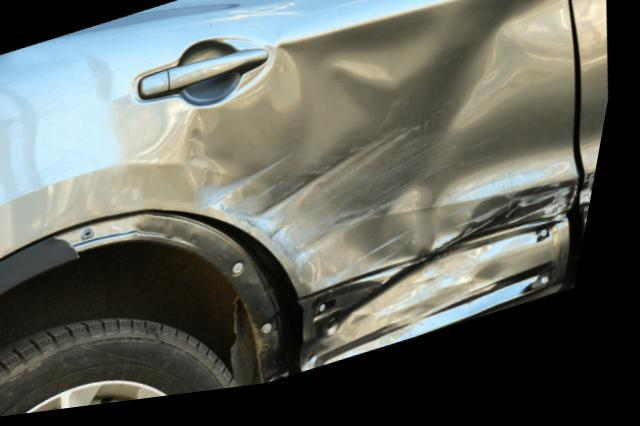dent: (183, 0, 575, 359), (590, 190, 604, 220)
